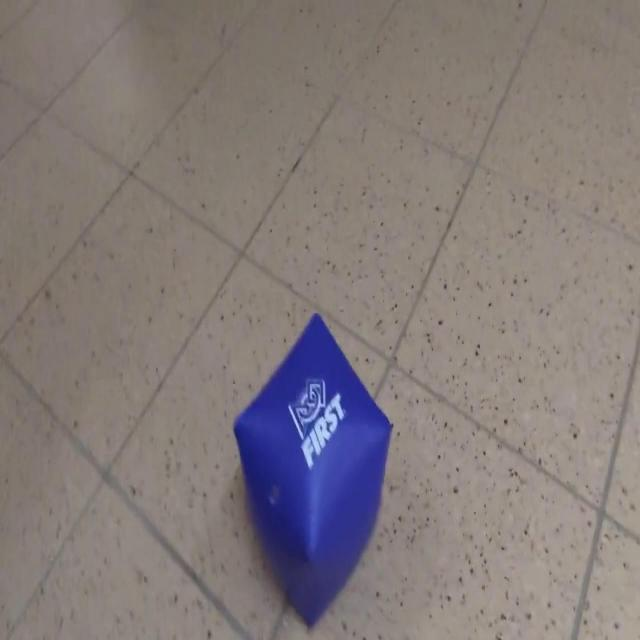frc_cube: (233, 314, 392, 628)
